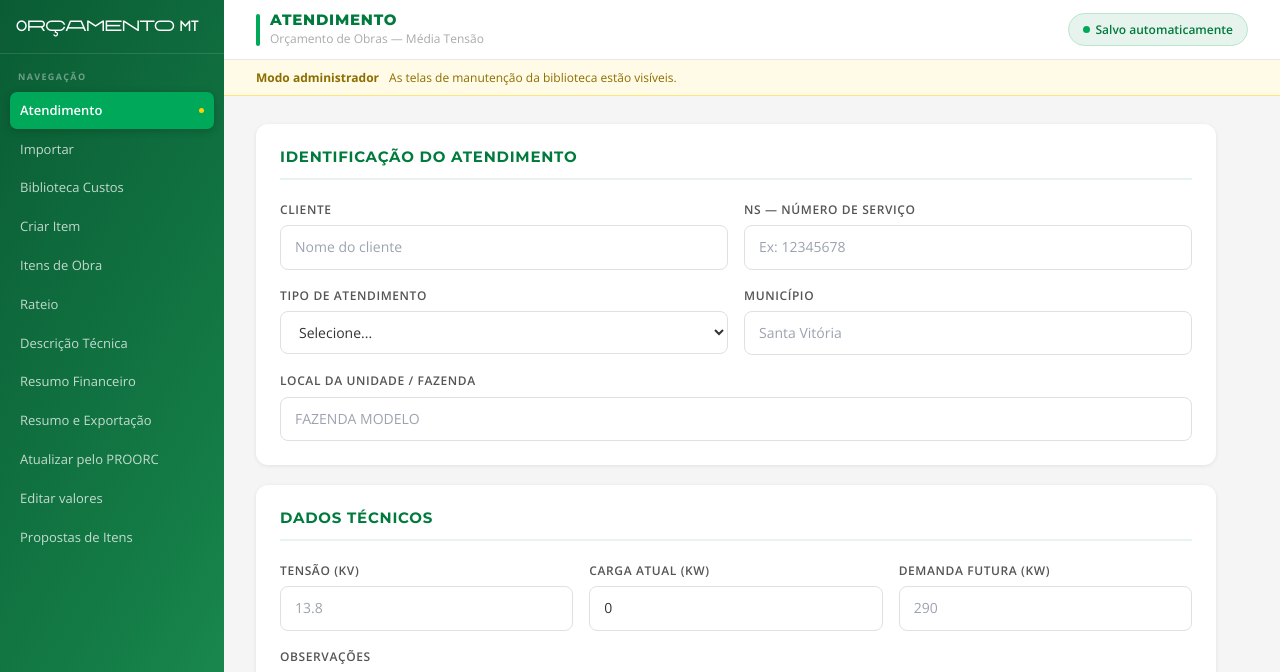
Test: Etapa 3 — modo administrador › a aba abre a tela de atualização
This screenshot has width=1280, height=672.
Click the button "Atualizar pelo PROORC" at (112,460), box [10, 441, 214, 478]
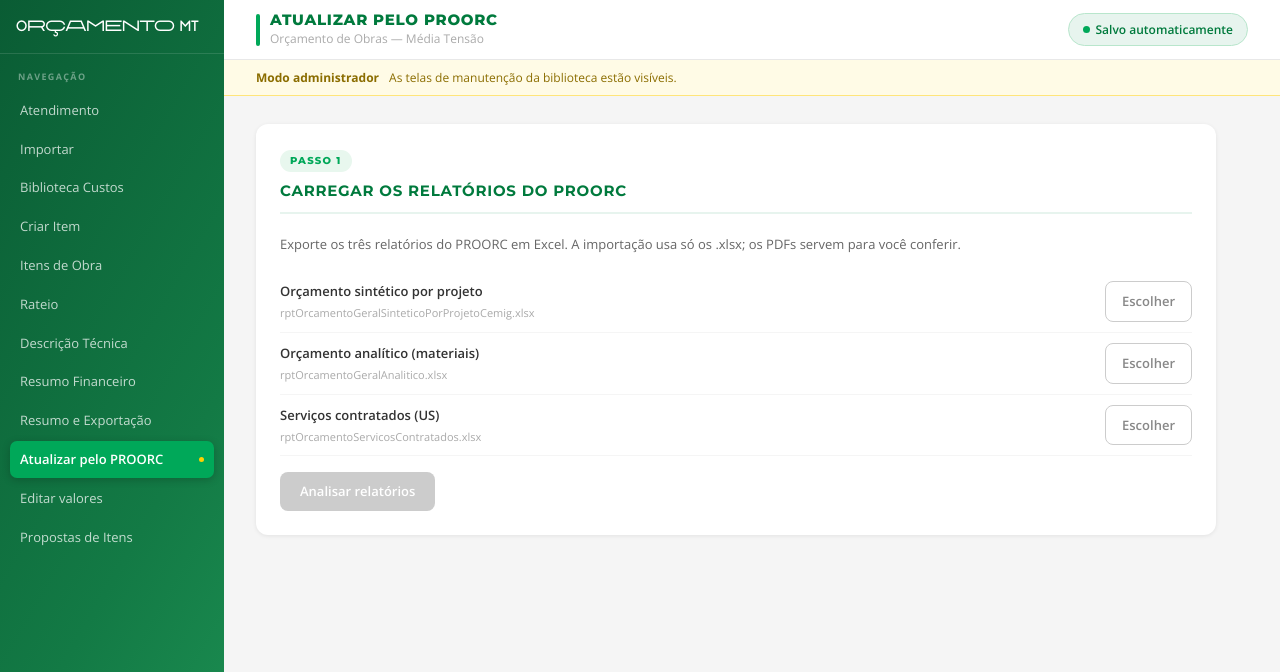
expect the heading "Carregar os relatórios do PROORC" is shown: met, box [280, 182, 1192, 214]
